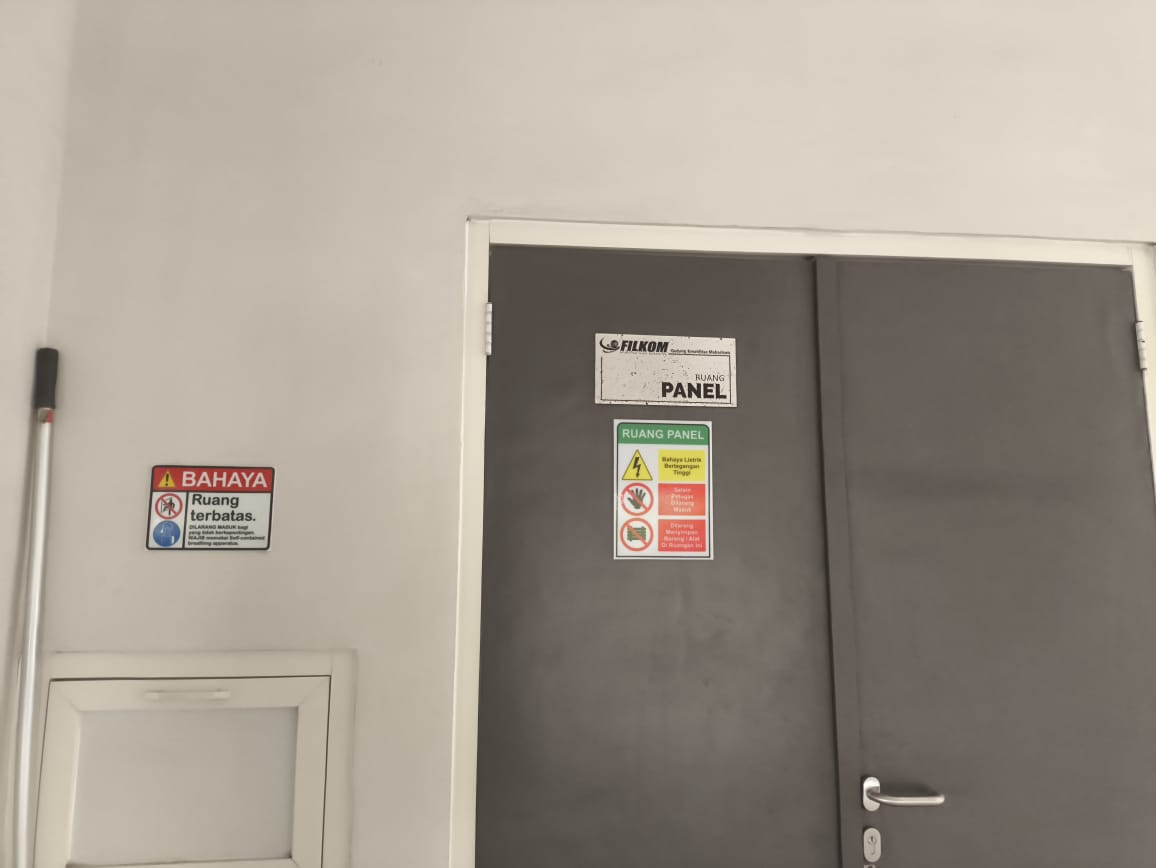ruang panel: (585, 321, 744, 418)
